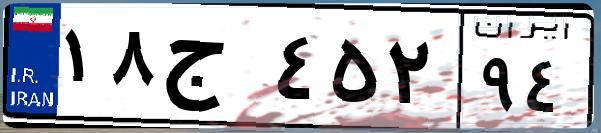1: (57, 26, 110, 100)
2: (385, 28, 445, 110)
4: (270, 28, 330, 110), (525, 38, 570, 115)
5: (330, 28, 385, 110)
8: (110, 28, 158, 98)
9: (475, 38, 525, 113)
ج: (158, 20, 270, 120)
